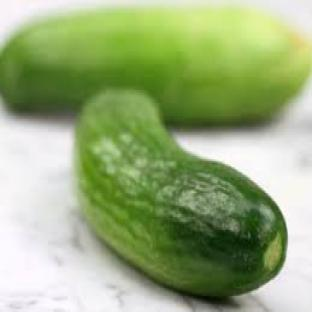Cucumber: (76, 91, 286, 297), (0, 9, 310, 125)
